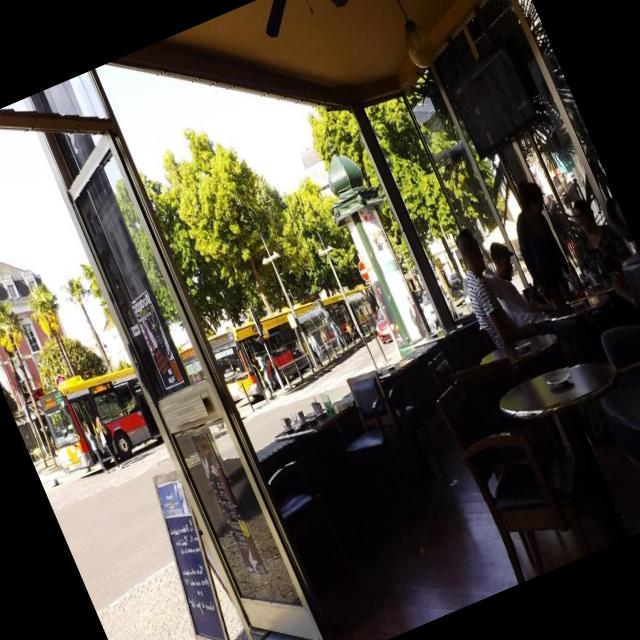bus: (32, 351, 165, 481), (208, 296, 341, 408), (313, 276, 382, 343), (174, 337, 208, 388)
